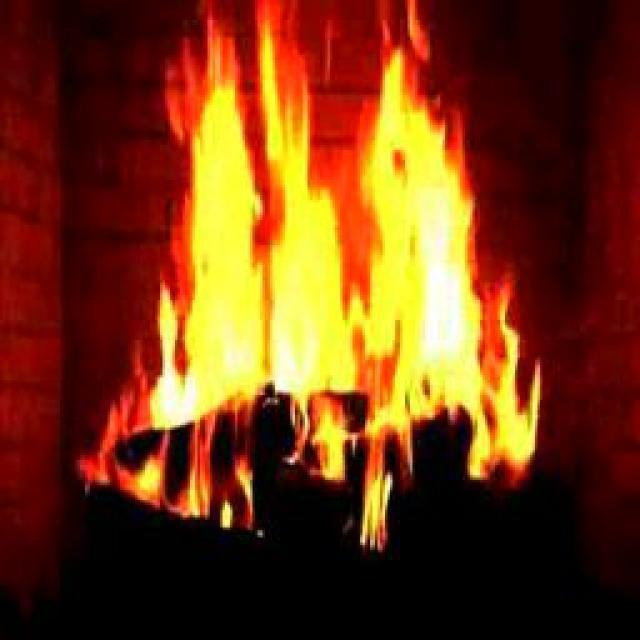Fire: (136, 50, 534, 452)
